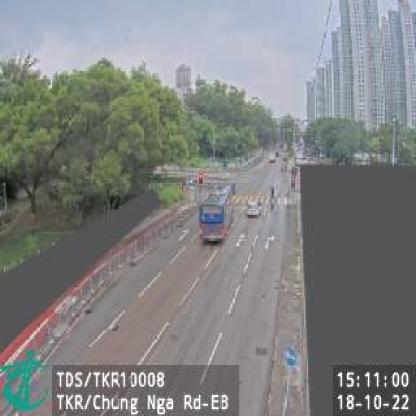Bus: (199, 190, 234, 245)
Car: (244, 199, 262, 220)
